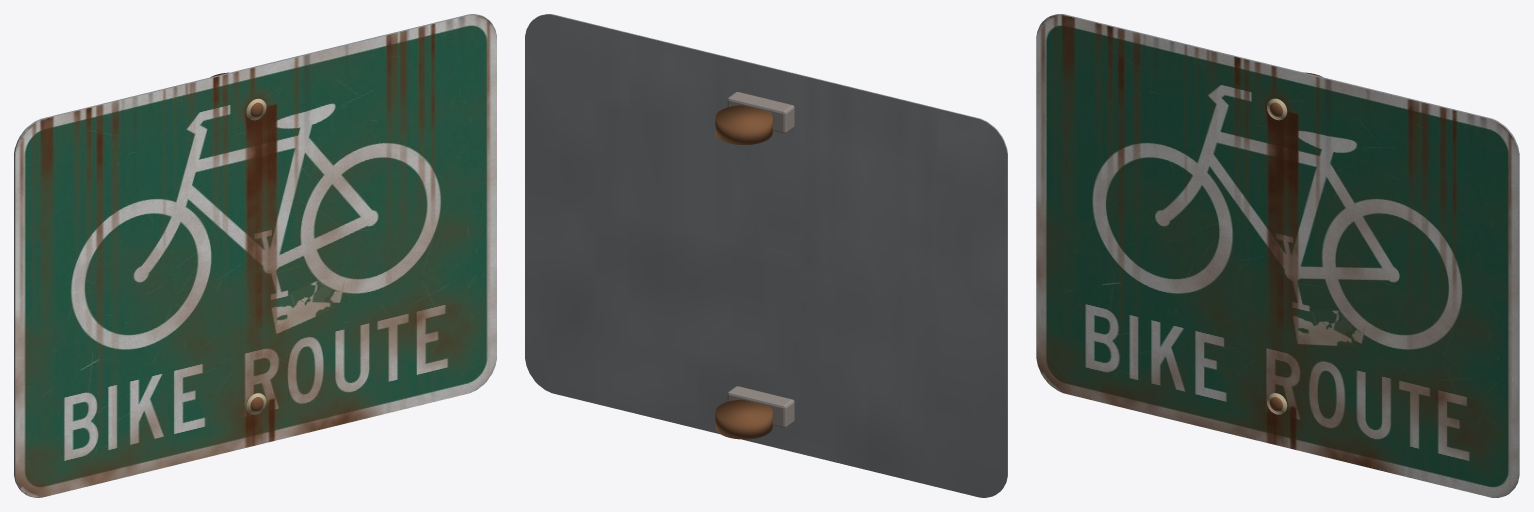
The model's file is bikeGuide-v1-rusty.glb.
The picture shows the model from 3 angles, left to right: view 1: azimuth 30°, elevation 25°; view 2: azimuth 150°, elevation 25°; view 3: azimuth 330°, elevation 25°; orthographic projection.
Visible parts, largest first — view 1: bikeGuide-v1-rusty; view 2: bikeGuide-v1-rusty; view 3: bikeGuide-v1-rusty.
Boxes of the visible parts, x1,y1,x2,y2 form: bikeGuide-v1-rusty: (14, 14, 496, 497); bikeGuide-v1-rusty: (525, 14, 1007, 497); bikeGuide-v1-rusty: (1036, 14, 1519, 497).
Bounding box in the file's own units: 0.6096 × 0.4572 × 0.0871.
1 material, 1 textured.
